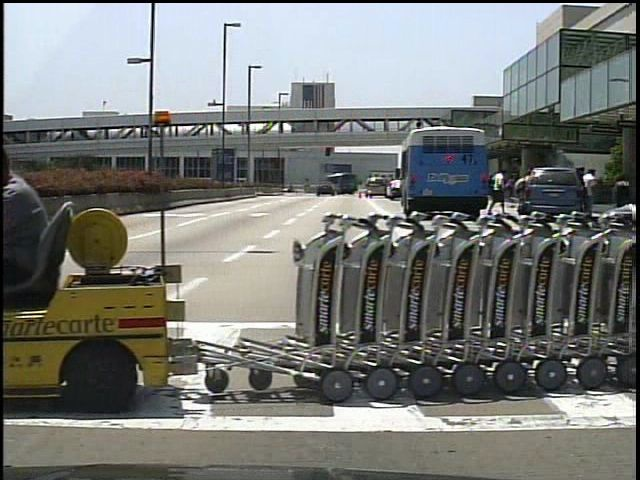person: (0, 139, 59, 299), (512, 167, 533, 218), (580, 165, 601, 214), (491, 166, 511, 217)
